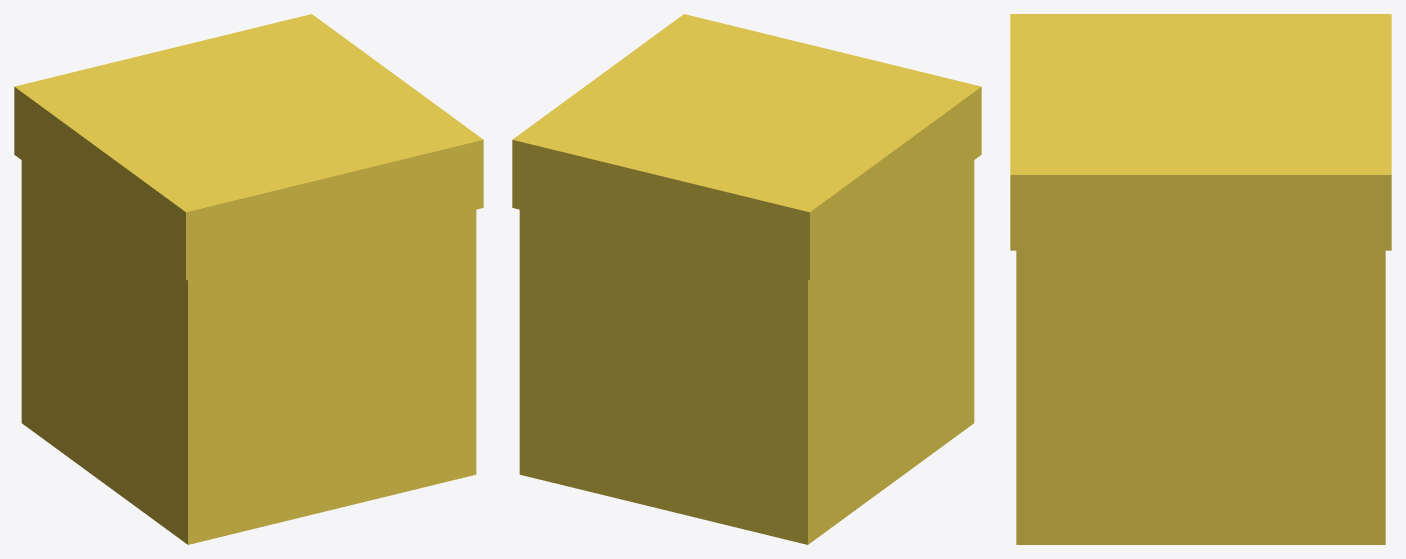
File: capa_chuva_manga_sup.glb
3 views of the same model, side by side, from view 1: azimuth 30°, elevation 25°; view 2: azimuth 150°, elevation 25°; view 3: azimuth 270°, elevation 25° (orthographic). The views are drawn at different scales.
Visible parts, largest first — view 1: capa_chuva_manga_sup; view 2: capa_chuva_manga_sup; view 3: capa_chuva_manga_sup.
Boxes of the visible parts, box(x1,y1,x2,y2) form: capa_chuva_manga_sup: box(14, 14, 483, 544); capa_chuva_manga_sup: box(512, 14, 981, 544); capa_chuva_manga_sup: box(1010, 14, 1391, 544).
Bounding box in the file's own units: 0.32 × 0.345 × 0.32.
